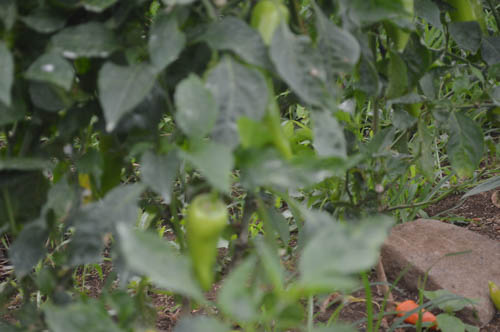ChiliPepper: (241, 7, 292, 152), (182, 198, 227, 289)
